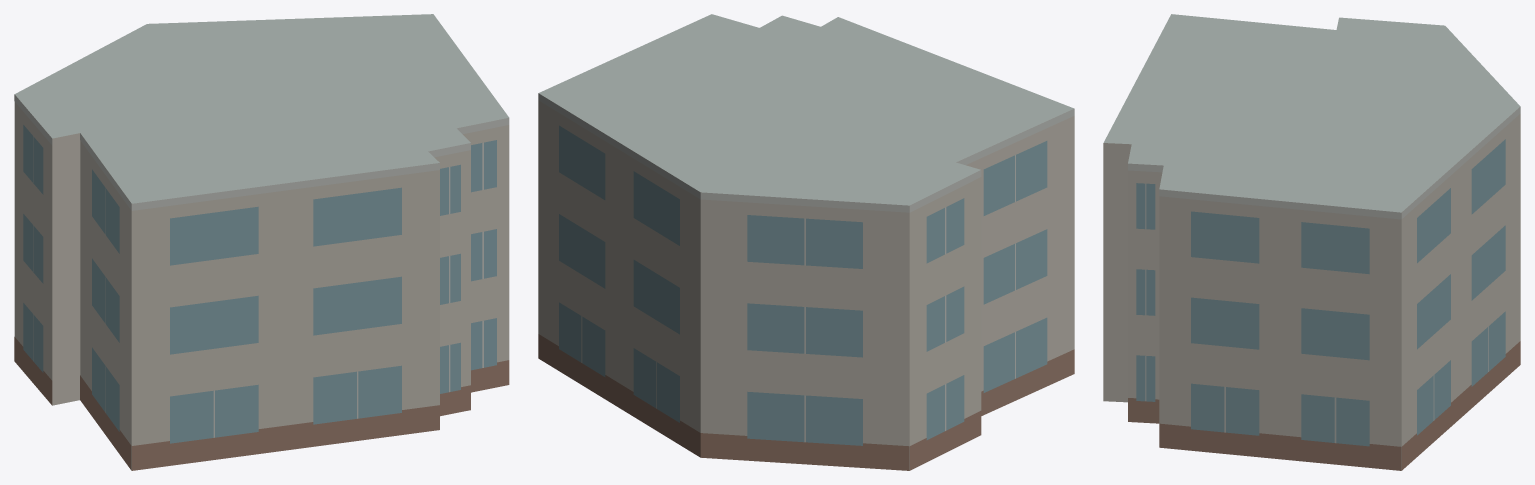
The model's file is survey-upis-32604833.glb.
3 renders of one model, left to right at view 1: azimuth 30°, elevation 25°; view 2: azimuth 150°, elevation 25°; view 3: azimuth 270°, elevation 25°, orthographic. The views are drawn at different scales.
Parts seen in each view (by area): view 1: survey-upis-32604833.tmp; view 2: survey-upis-32604833.tmp; view 3: survey-upis-32604833.tmp.
Boxes of the visible parts, box(x1,y1,x2,y2) form: survey-upis-32604833.tmp: box(14, 14, 509, 470); survey-upis-32604833.tmp: box(538, 14, 1074, 470); survey-upis-32604833.tmp: box(1103, 14, 1520, 470).
Size of the model in its own units: 15.01 by 9.1 by 13.33.
